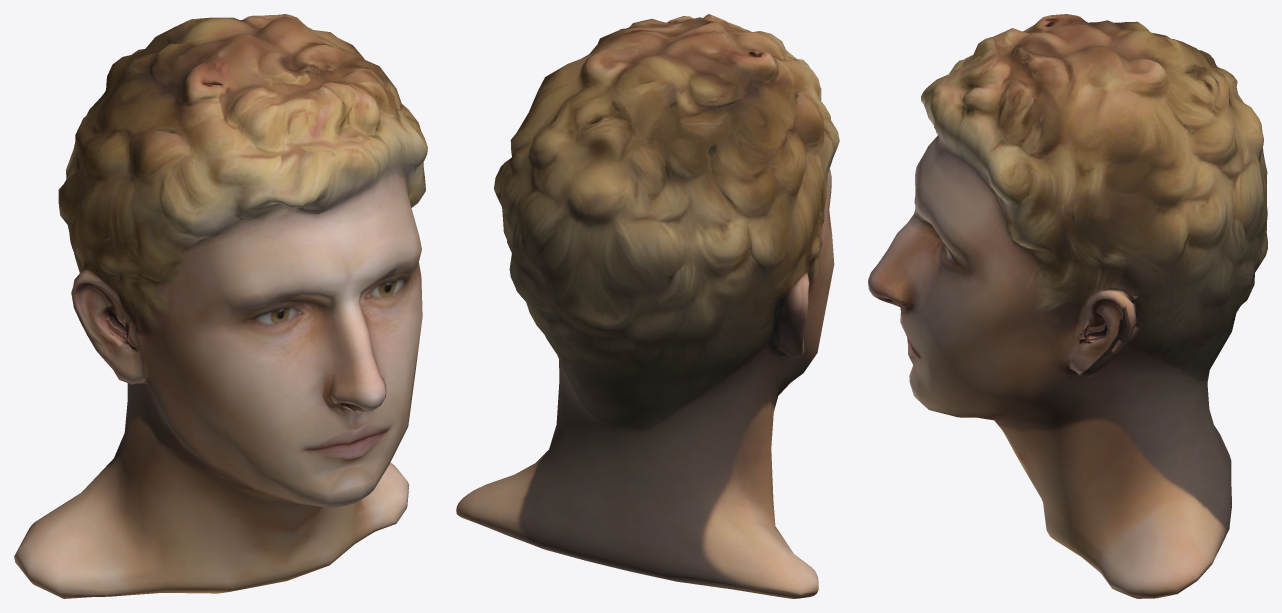
3 views of the same model, side by side, from view 1: azimuth 30°, elevation 25°; view 2: azimuth 150°, elevation 25°; view 3: azimuth 270°, elevation 25° (orthographic). The views are drawn at different scales.
Parts seen in each view (by area): view 1: Man_with_Blond_Hair_0925095459_textureglb; view 2: Man_with_Blond_Hair_0925095459_textureglb; view 3: Man_with_Blond_Hair_0925095459_textureglb.
Part boxes in pixels (x1,y1,x2,y2): Man_with_Blond_Hair_0925095459_textureglb: (14, 14, 427, 598); Man_with_Blond_Hair_0925095459_textureglb: (456, 14, 839, 598); Man_with_Blond_Hair_0925095459_textureglb: (868, 14, 1267, 598).
Bounding box in the file's own units: 1.38 × 1.91 × 1.39.
Materials: 1 (1 with a texture image).
